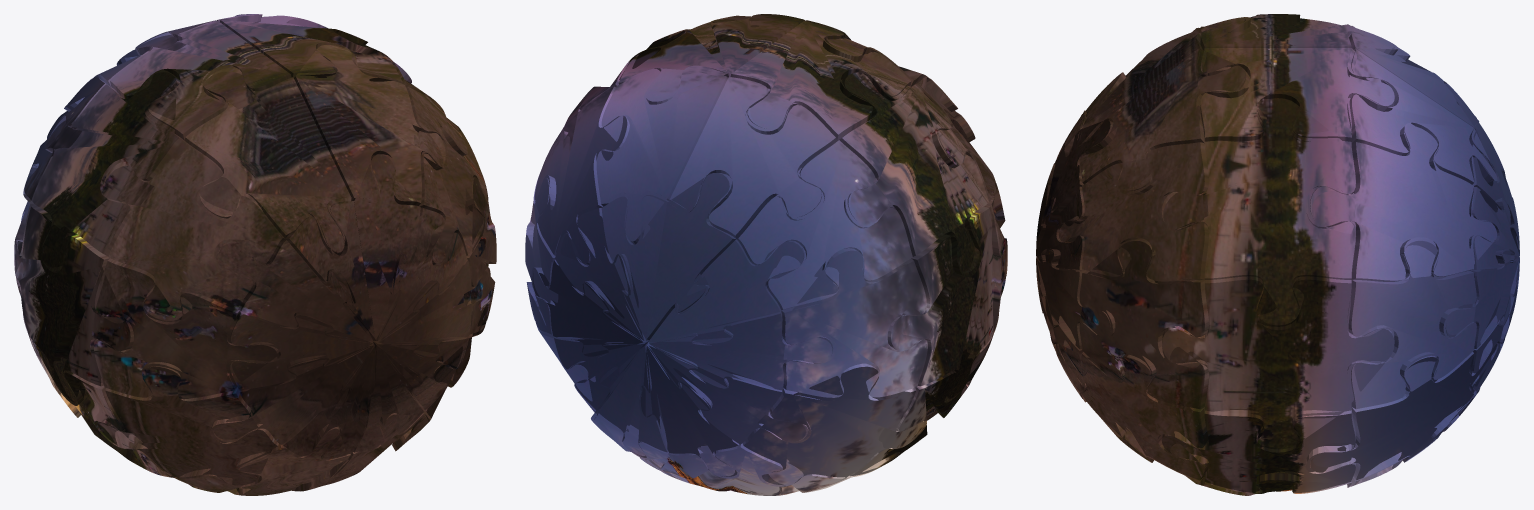
File: easy-puzzle-v12.fbx
3 views of the same model, side by side, from view 1: azimuth 30°, elevation 25°; view 2: azimuth 150°, elevation 25°; view 3: azimuth 270°, elevation 25° (orthographic).
Parts seen in each view (by area): view 1: Street View 360 1, Street View 360 1.043, Street View 360 1.017, Street View 360 1.041, Street View 360 1.044, Street View 360 1.034, Street View 360 1.004, Street View 360 1.045, Street View 360 1.016, Street View 360 1.042, Street View 360 1.005, Street View 360 1.046 (+8 smaller); view 2: Street View 360 1, Street View 360 1.026, Street View 360 1.027, Street View 360 1.041, Street View 360 1.015, Street View 360 1.006, Street View 360 1.034, Street View 360 1.028, Street View 360 1.016, Street View 360 1.033, Street View 360 1.005, Street View 360 1.029 (+7 smaller); view 3: Street View 360 1.040, Street View 360 1.039, Street View 360 1, Street View 360 1.033, Street View 360 1.042, Street View 360 1.049, Street View 360 1.032, Street View 360 1.005, Street View 360 1.038, Street View 360 1.004, Street View 360 1.048, Street View 360 1.031 (+6 smaller).
Part boxes in pixels (x1,y1,x2,y2): Street View 360 1: [213, 154, 489, 458]; Street View 360 1.043: [103, 140, 284, 321]; Street View 360 1.017: [184, 68, 351, 255]; Street View 360 1.041: [32, 72, 183, 272]; Street View 360 1.044: [94, 258, 279, 398]; Street View 360 1.034: [15, 205, 133, 402]; Street View 360 1.004: [294, 45, 445, 205]; Street View 360 1.045: [97, 366, 278, 485]; Street View 360 1.016: [110, 20, 291, 140]; Street View 360 1.042: [406, 86, 487, 265]; Street View 360 1.005: [220, 14, 402, 83]; Street View 360 1.046: [177, 426, 358, 495]; Street View 360 1: [532, 115, 968, 476]; Street View 360 1.026: [736, 140, 912, 310]; Street View 360 1.027: [781, 248, 927, 397]; Street View 360 1.041: [838, 72, 988, 272]; Street View 360 1.015: [670, 76, 836, 238]; Street View 360 1.006: [596, 68, 727, 244]; Street View 360 1.034: [887, 205, 1006, 402]; Street View 360 1.028: [742, 363, 923, 485]; Street View 360 1.016: [730, 20, 911, 140]; Street View 360 1.033: [534, 86, 629, 265]; Street View 360 1.005: [618, 14, 801, 104]; Street View 360 1.029: [663, 443, 844, 495]; Street View 360 1.040: [1161, 98, 1356, 326]; Street View 360 1.039: [1162, 276, 1394, 449]; Street View 360 1: [1036, 84, 1519, 421]; Street View 360 1.033: [1310, 125, 1497, 281]; Street View 360 1.042: [1059, 142, 1208, 281]; Street View 360 1.049: [1079, 238, 1209, 409]; Street View 360 1.032: [1348, 240, 1476, 409]; Street View 360 1.005: [1200, 48, 1394, 141]; Street View 360 1.038: [1161, 407, 1356, 492]; Street View 360 1.004: [1079, 49, 1250, 190]; Street View 360 1.048: [1059, 340, 1208, 480]; Street View 360 1.031: [1310, 343, 1497, 480].
Bounding box in the file's own units: 662 × 657 × 667.
